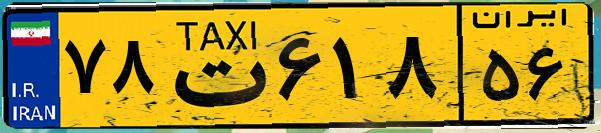1: (330, 28, 385, 110)
5: (475, 38, 525, 113)
6: (270, 28, 330, 110), (525, 38, 570, 115)
7: (57, 26, 110, 100)
8: (385, 28, 445, 110), (110, 28, 158, 98)
ت: (158, 12, 270, 120)
